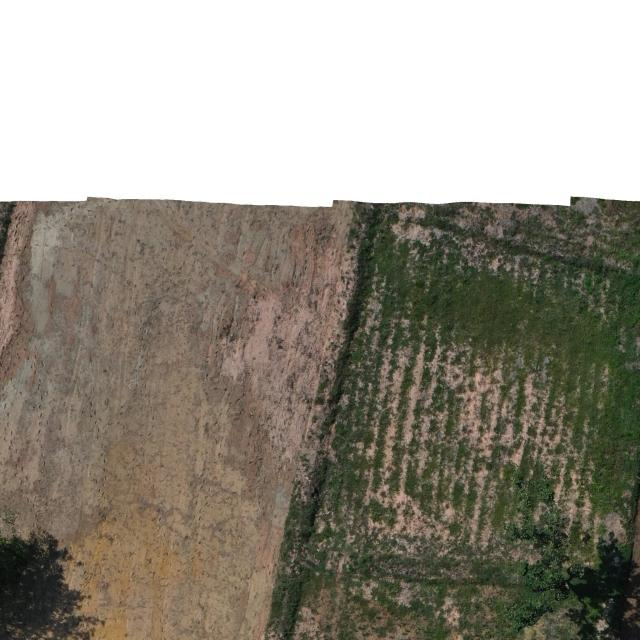Tree: (498, 466, 587, 633)
